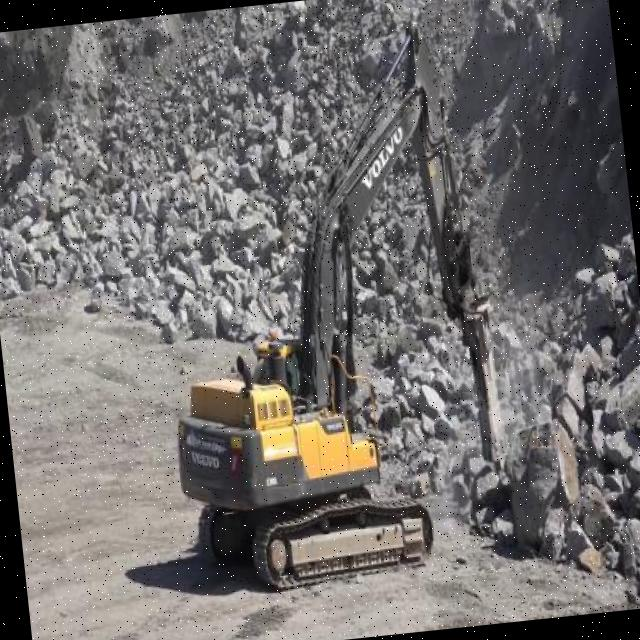Excavator: (118, 8, 540, 600)
